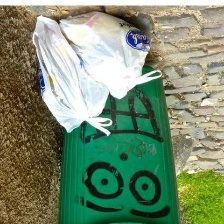plastic_bag: (26, 12, 118, 141), (51, 10, 167, 100)
